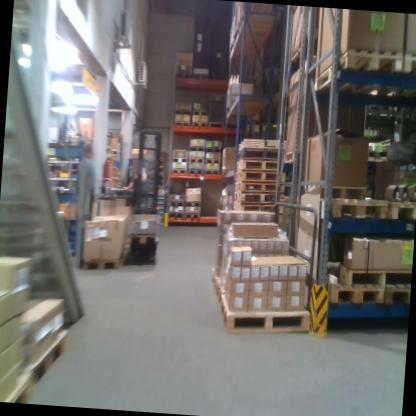pallet: (311, 43, 405, 103), (218, 295, 315, 338), (30, 327, 70, 392), (329, 192, 389, 224), (339, 263, 412, 288), (330, 279, 388, 308), (322, 181, 368, 203), (79, 254, 120, 274), (387, 195, 416, 221), (384, 283, 411, 309), (233, 190, 275, 206), (238, 147, 279, 162), (238, 169, 278, 184), (237, 160, 278, 172), (237, 181, 276, 193), (233, 203, 276, 212), (402, 52, 416, 77), (290, 38, 303, 61), (283, 150, 295, 165), (173, 119, 191, 128), (192, 71, 209, 80), (175, 108, 192, 117), (189, 144, 206, 153), (172, 156, 189, 165), (193, 108, 209, 117), (192, 120, 208, 129), (189, 156, 205, 165), (188, 167, 204, 176), (175, 72, 192, 80), (168, 212, 185, 220), (206, 146, 221, 155), (204, 168, 220, 176), (171, 168, 187, 176), (185, 212, 201, 220), (186, 200, 201, 208), (170, 200, 185, 208), (212, 74, 228, 81), (205, 158, 221, 165)
pallet_truck: (123, 129, 167, 265)
stillage: (208, 91, 227, 126)
